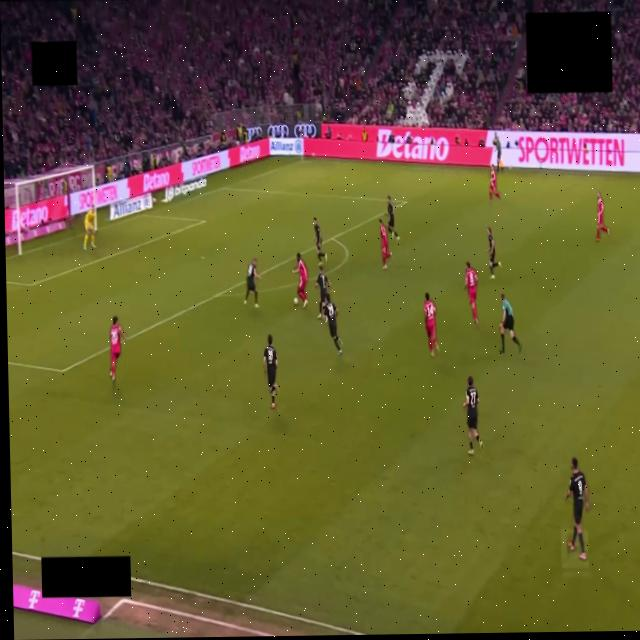ball: (293, 297, 299, 305)
player: (565, 458, 588, 560), (463, 377, 483, 455), (263, 335, 278, 409), (324, 293, 342, 354), (110, 316, 126, 382), (315, 264, 332, 318), (424, 293, 438, 356), (464, 262, 477, 324), (293, 253, 307, 308), (244, 259, 260, 307), (487, 228, 500, 279), (379, 219, 392, 268), (313, 217, 327, 261), (596, 193, 608, 241), (387, 195, 399, 240), (83, 210, 95, 249), (490, 166, 501, 202)
referee: (500, 294, 521, 352)
